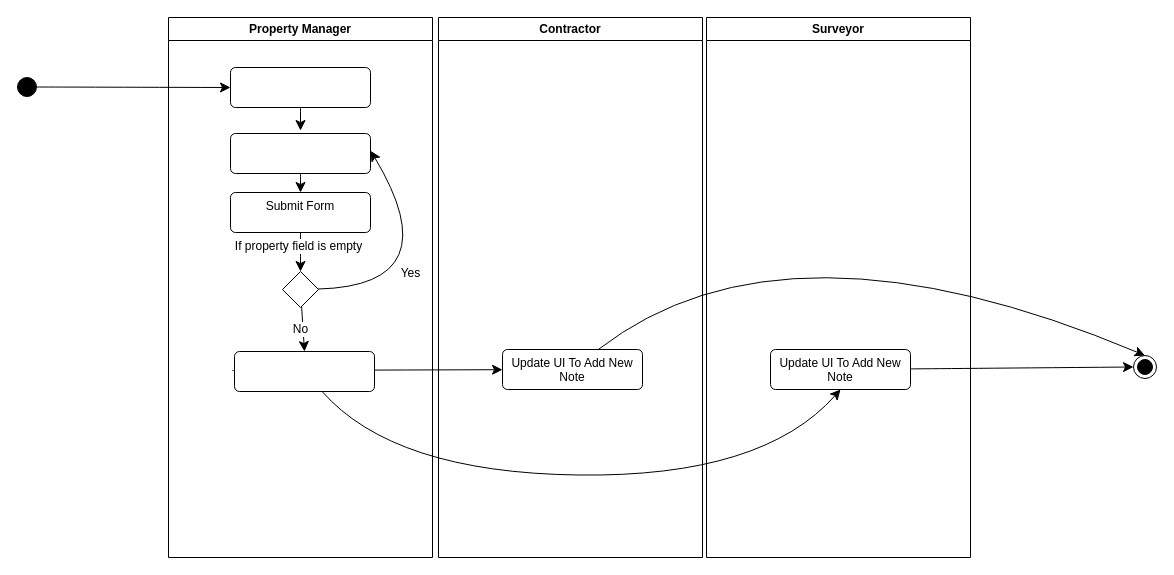
The diagram is 1174 pixels wide and 575 high, and some of its shapes have lost their labels. The shapes that lost their labels are listed below. From the top down, each one's centre as x and y in pixels, then its label:
(300,87): Click 'Create Note' Btn
(300,153): Enter Property Into Field
(304,371): View new Quote Below form
